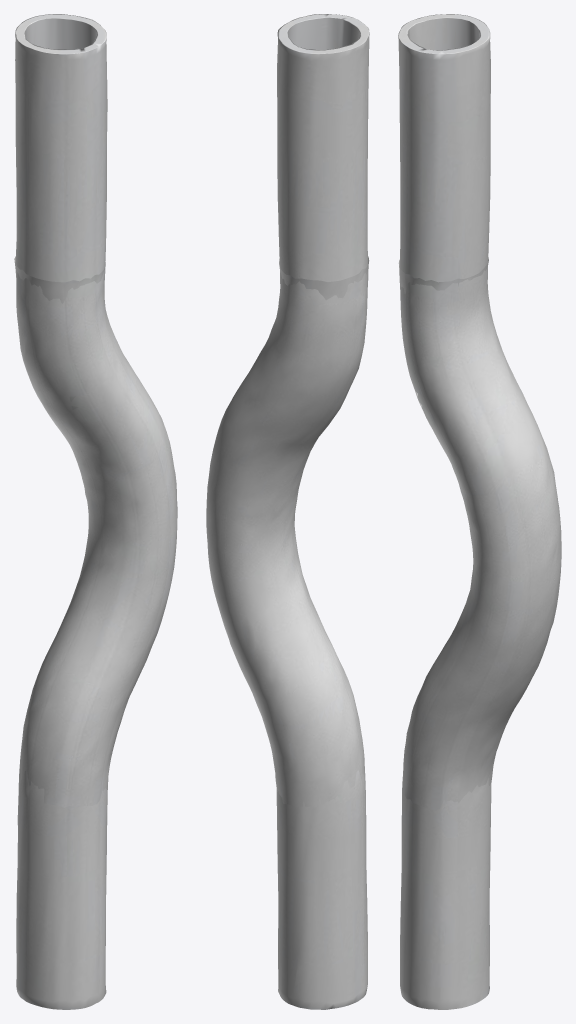
The model's file is Wire.glb.
3 views of the same model, side by side, from view 1: azimuth 30°, elevation 25°; view 2: azimuth 150°, elevation 25°; view 3: azimuth 330°, elevation 25° (orthographic).
Bounding box in the file's own units: 0.1646 × 1 × 0.0979.
Materials: 1 (1 with a texture image).
